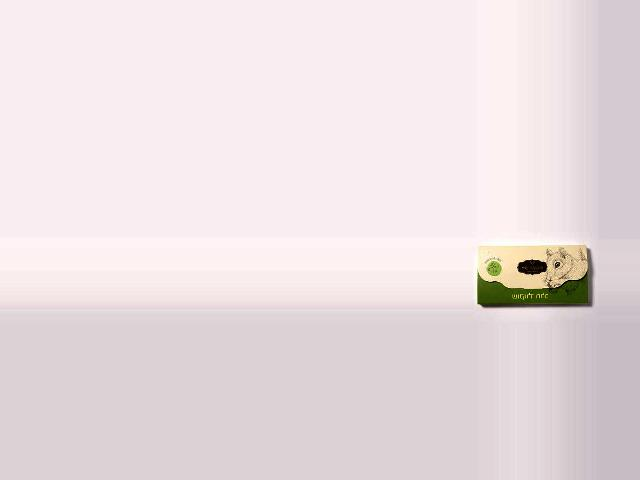chocolate: (476, 243, 589, 306)
